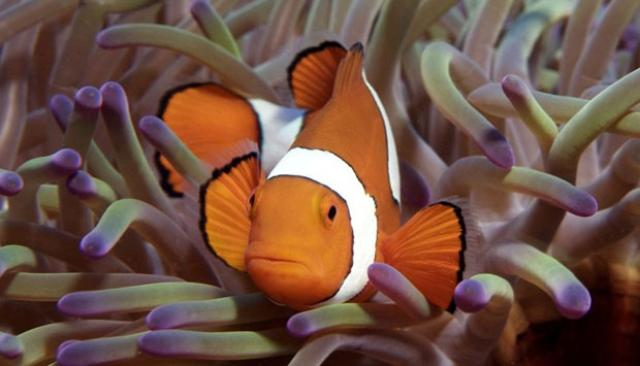Mulut: (233, 233, 334, 297)
Sirip Dada: (367, 190, 488, 334), (167, 126, 273, 286)
Sirip Ekor: (128, 61, 272, 219)
Sirip Punggung: (274, 16, 374, 132)
